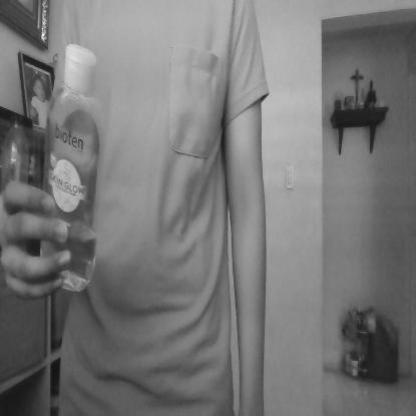Plastic Bottle: (38, 34, 110, 299)
